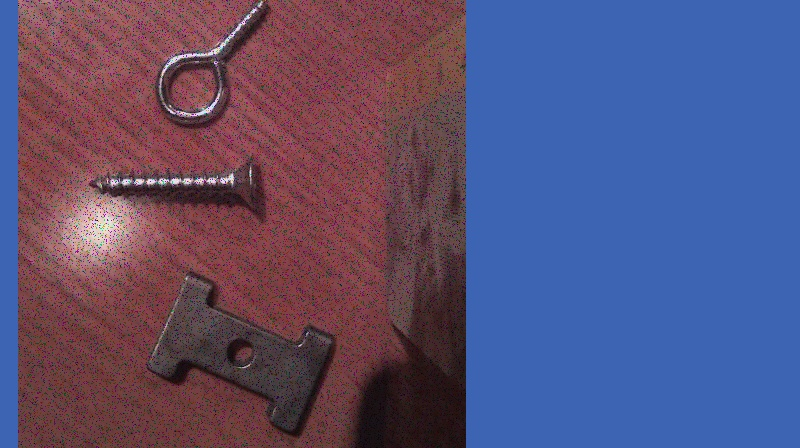O001: (151, 0, 274, 130)
O002: (143, 268, 335, 437)
S001: (87, 149, 262, 210)
